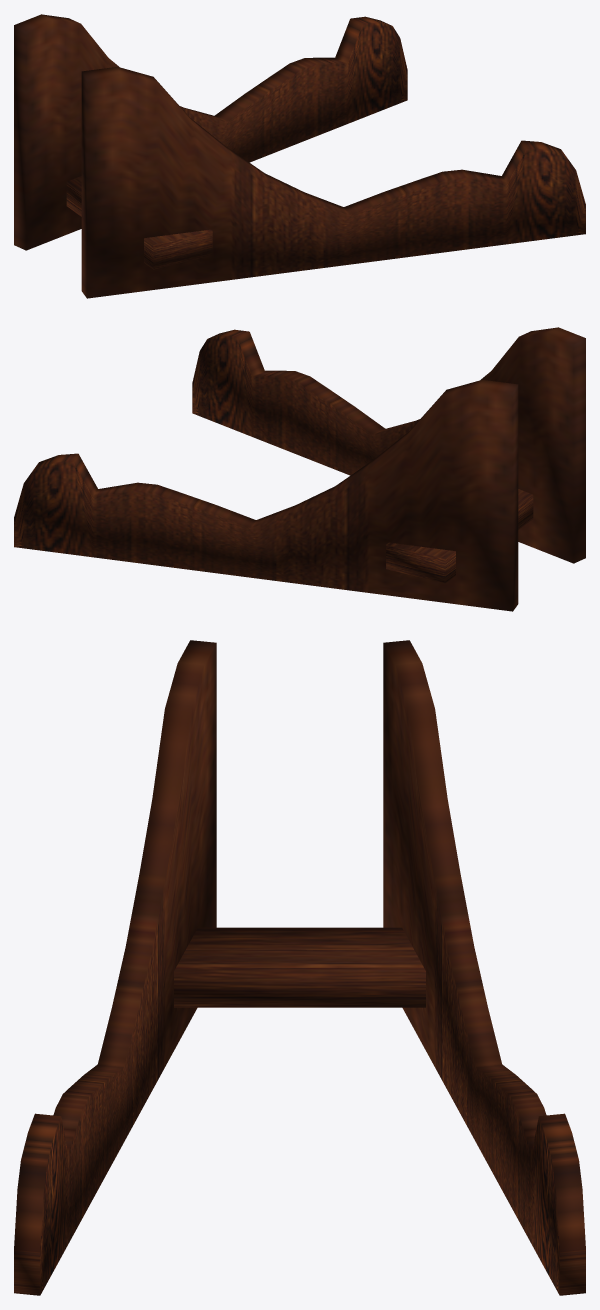
Rendered from drum_stand.fbx.
3 views of the same model, one above another, from view 1: azimuth 30°, elevation 25°; view 2: azimuth 150°, elevation 25°; view 3: azimuth 270°, elevation 25° (orthographic). The views are drawn at different scales.
Visible parts, largest first — view 1: drum_stand; view 2: drum_stand; view 3: drum_stand.
Boxes of the visible parts, x1,y1,x2,y2 form: drum_stand: (14,14,585,298); drum_stand: (14,327,585,611); drum_stand: (14,640,585,1295).
Size of the model in its own units: 71.27 by 33.76 by 52.97.
